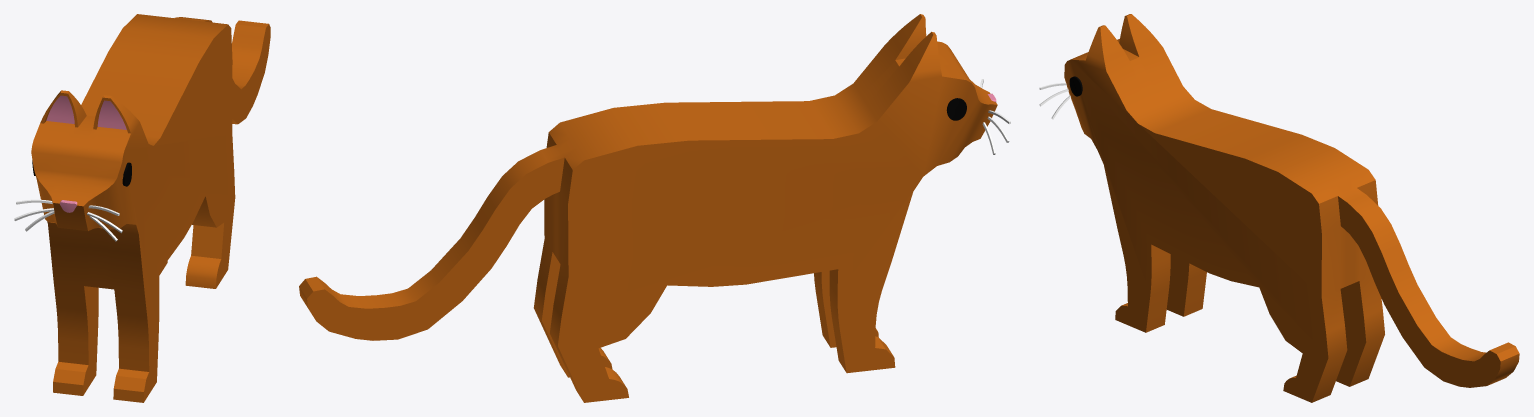
Rendered from cat.fbx.
3 views of the same model, side by side, from view 1: azimuth 30°, elevation 25°; view 2: azimuth 150°, elevation 25°; view 3: azimuth 270°, elevation 25° (orthographic). The views are drawn at different scales.
Parts seen in each view (by area): view 1: Plane.128, Cube.005; view 2: Plane.128; view 3: Plane.128.
Part boxes in pixels (box(x1,y1,x2,y2)): Plane.128: box(31, 14, 270, 402); Cube.005: box(14, 199, 122, 241); Plane.128: box(299, 14, 997, 402); Plane.128: box(1064, 14, 1519, 402).
Size of the model in its own units: 235 by 149 by 235.
1 material, 1 textured.
